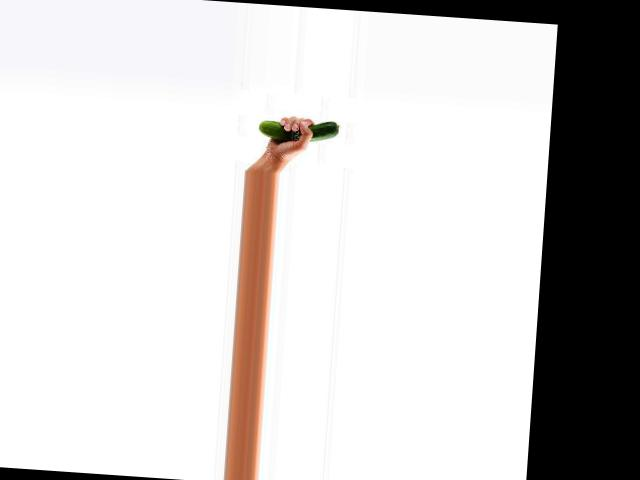cucumber: (258, 115, 339, 144)
